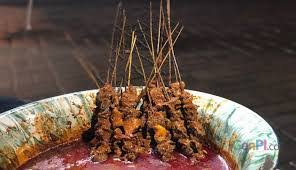sate: (81, 68, 247, 164)
